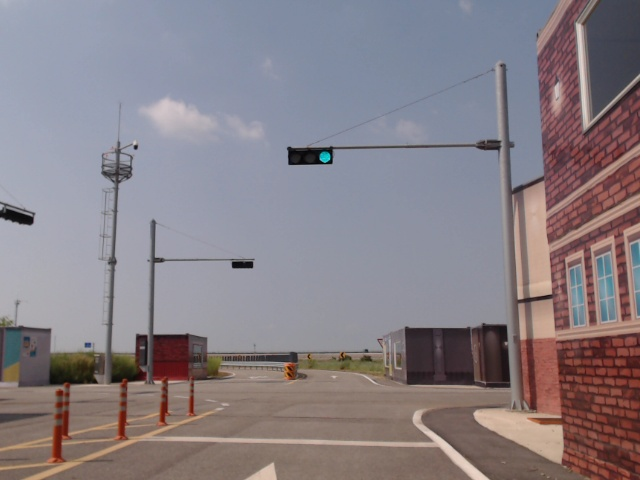green_3: (288, 148, 333, 165)
